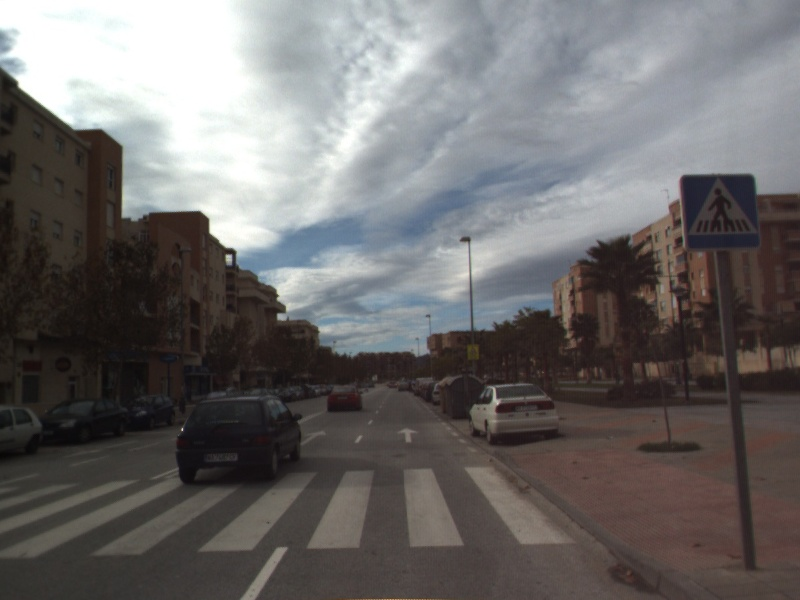STRAIGHT: (299, 428, 329, 447), (395, 425, 421, 445)
